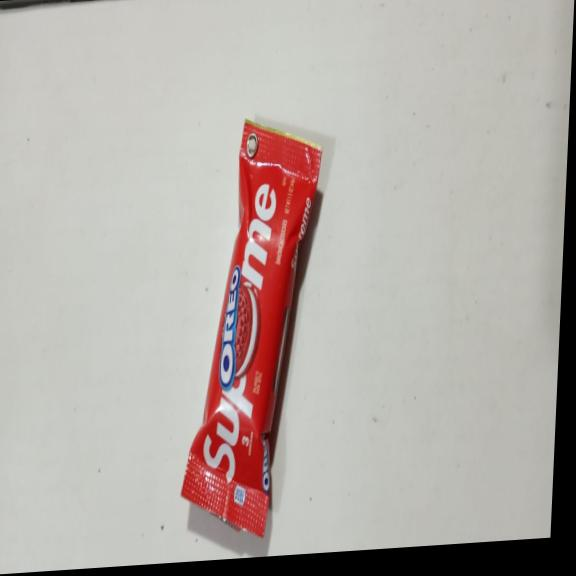Plastik: (178, 110, 325, 545)
